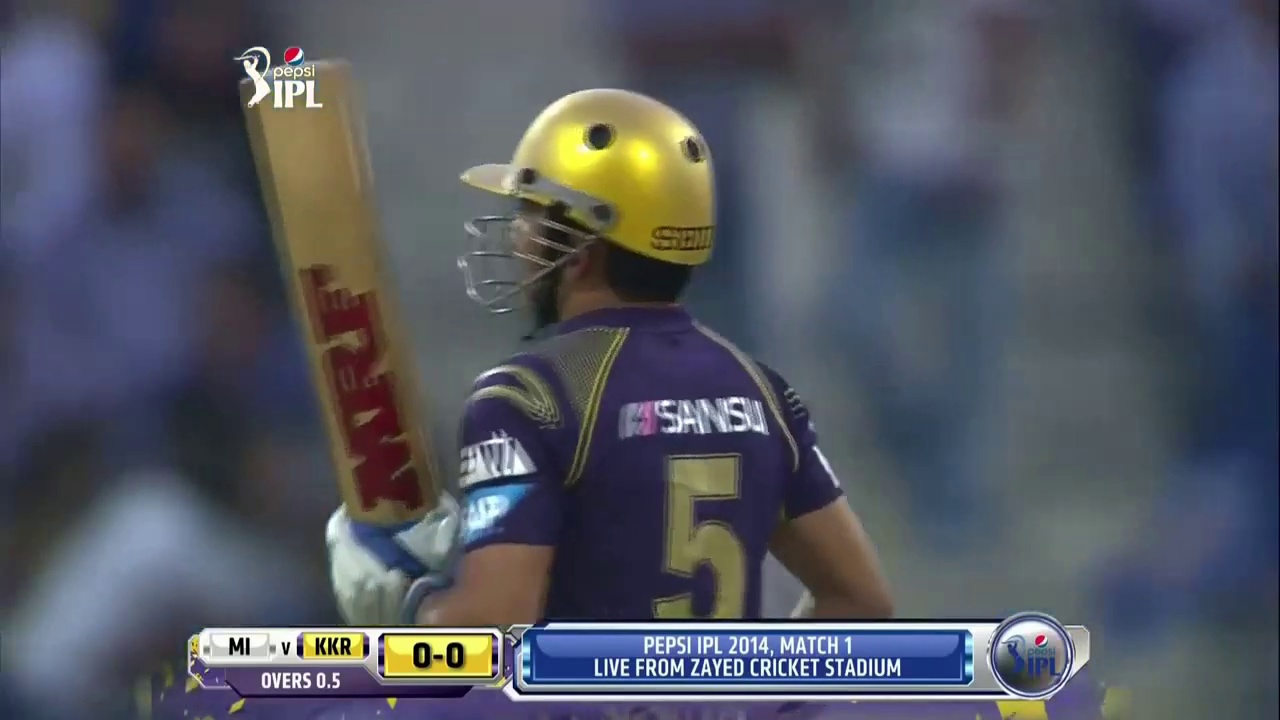bat: (239, 109, 444, 493)
